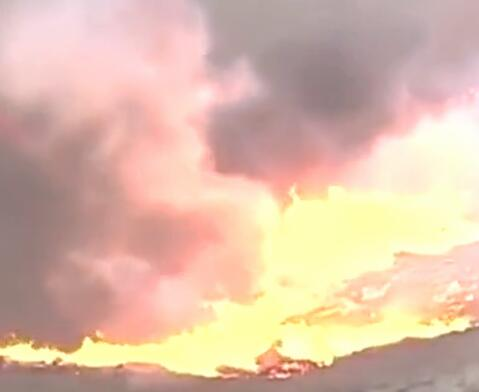fire: (5, 187, 477, 377)
yanwu: (0, 0, 475, 226)
